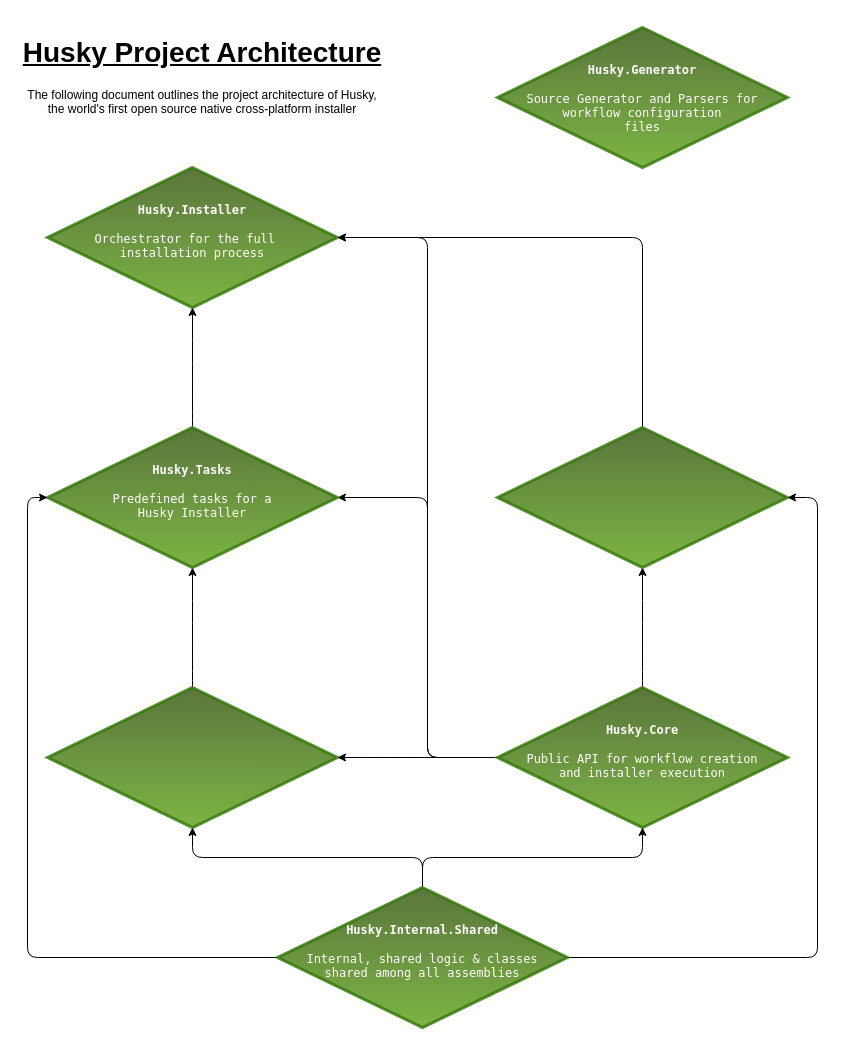
This 843x1046 diagram has some shape labels left out. The centre of each missing label's shape, as x and y in pixels:
"Husky.Dependencies First-class support for dependency installation" belongs at pixel 642 497.
"Husky.Services Reusable, injectable logic for an IoC container" belongs at pixel 192 757.
